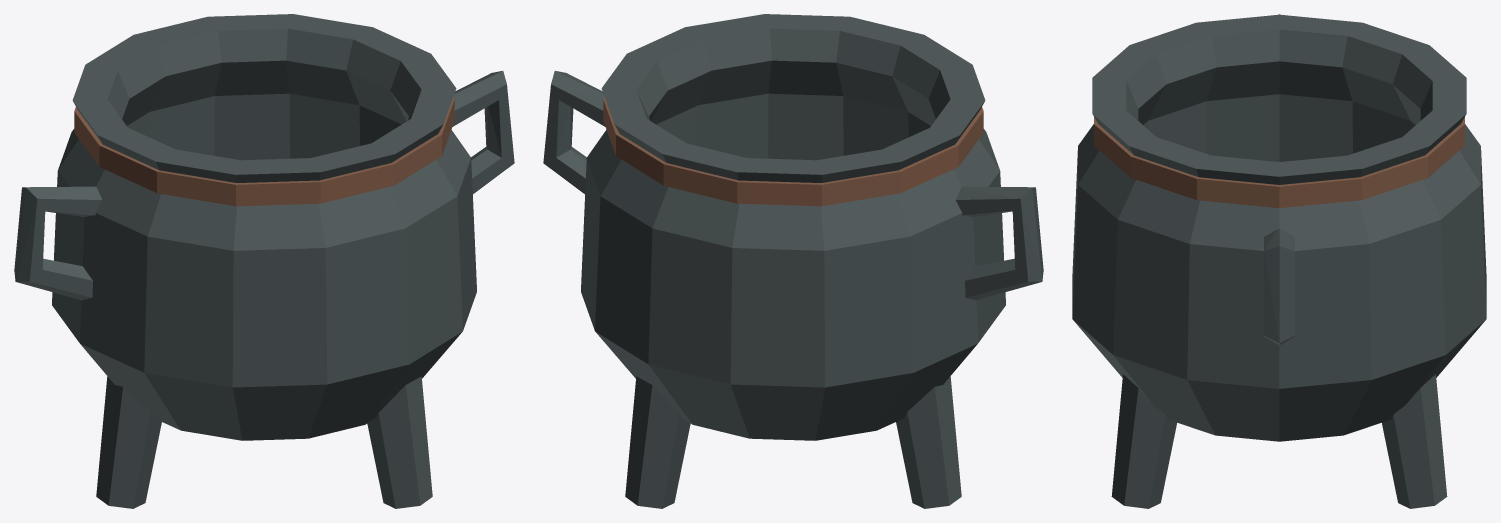
The model's file is DG_Pot_ThreeLegCook.fbx.
The picture shows the model from 3 angles, left to right: view 1: azimuth 30°, elevation 25°; view 2: azimuth 150°, elevation 25°; view 3: azimuth 270°, elevation 25°; orthographic projection.
Parts seen in each view (by area): view 1: DG_Pot_ThreeLegCook; view 2: DG_Pot_ThreeLegCook; view 3: DG_Pot_ThreeLegCook.
Part boxes in pixels (x1,y1,x2,y2): DG_Pot_ThreeLegCook: [14, 14, 514, 508]; DG_Pot_ThreeLegCook: [543, 14, 1043, 508]; DG_Pot_ThreeLegCook: [1072, 14, 1486, 508].
Size of the model in its own units: 0.9707 by 0.6957 by 0.7019.
